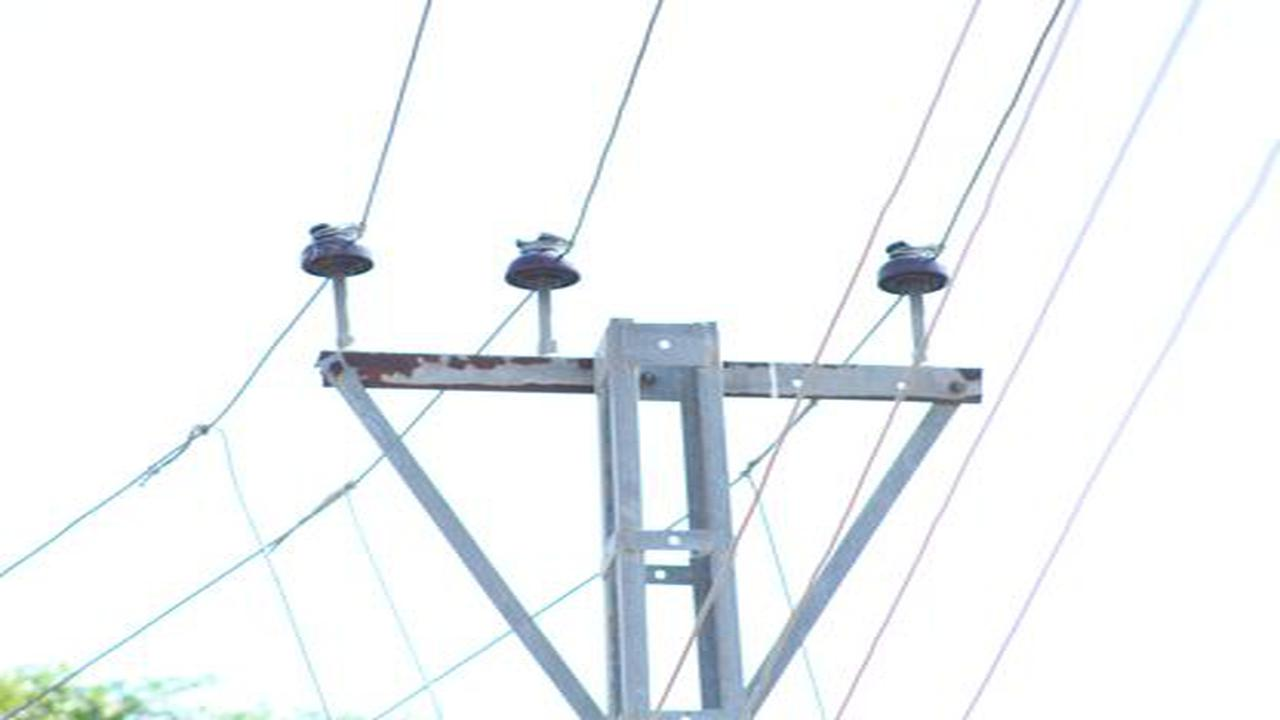insulator_pin: (500, 231, 585, 298), (871, 236, 953, 301), (298, 217, 377, 279)
